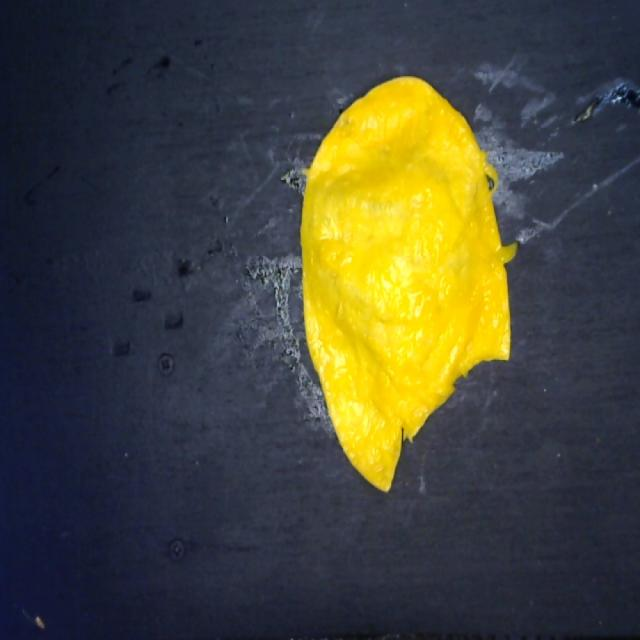biodegradable: (301, 73, 513, 495)
